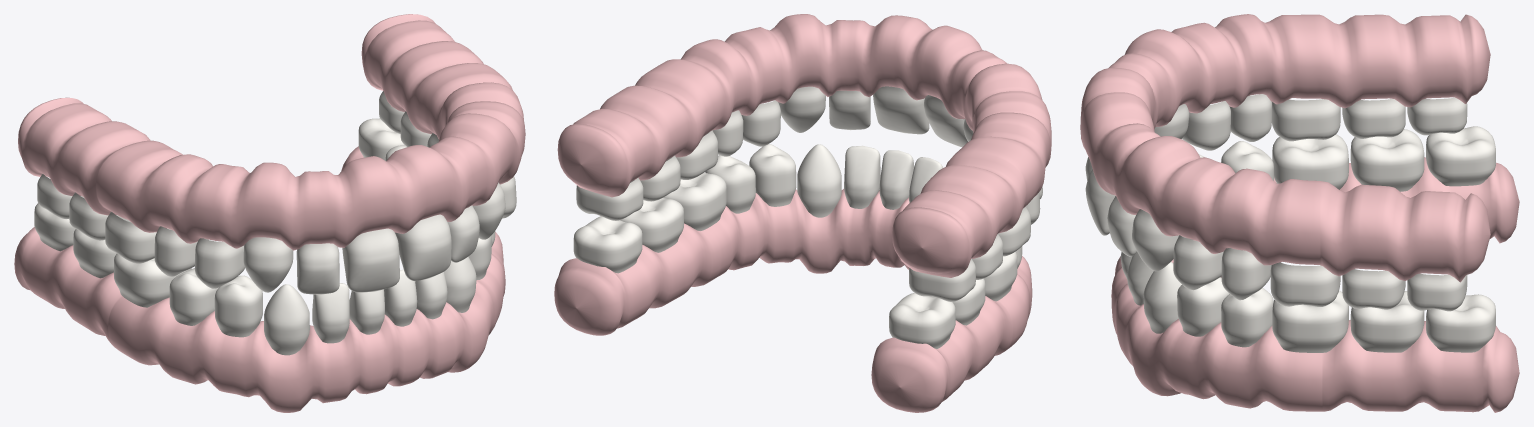
3 views of the same model, side by side, from view 1: azimuth 30°, elevation 25°; view 2: azimuth 150°, elevation 25°; view 3: azimuth 270°, elevation 25° (orthographic). The views are drawn at different scales.
Visible parts, largest first — view 1: gums_upper, gums_lower, object 1, object 9, object 27, object 28, object 30, object 3, object 2, object 29, object 4, object 26 (+16 smaller); view 2: gums_upper, gums_lower, object 24, object 32, object 19, object 22, object 20, object 23, object 9, object 18, object 21, object 16 (+14 smaller); view 3: gums_upper, gums_lower, object 31, object 32, object 22, object 30, object 24, object 23, object 14, object 6, object 21, object 15 (+15 smaller).
Part boxes in pixels (x1=…): gums_upper: x1=18, y1=14, x2=525, y2=250; gums_lower: x1=14, y1=146, x2=505, y2=412; object 1: x1=342, y1=228, x2=399, y2=292; object 9: x1=395, y1=214, x2=451, y2=281; object 27: x1=264, y1=284, x2=309, y2=355; object 28: x1=214, y1=275, x2=262, y2=337; object 30: x1=114, y1=253, x2=191, y2=307; object 3: x1=243, y1=237, x2=293, y2=292; object 2: x1=296, y1=243, x2=339, y2=294; object 29: x1=169, y1=268, x2=218, y2=325; object 4: x1=194, y1=238, x2=244, y2=288; object 26: x1=312, y1=283, x2=349, y2=343; gums_upper: x1=557, y1=14, x2=1051, y2=277; gums_lower: x1=554, y1=189, x2=1032, y2=412; object 24: x1=573, y1=216, x2=642, y2=273; object 32: x1=889, y1=293, x2=955, y2=348; object 19: x1=797, y1=144, x2=841, y2=217; object 22: x1=663, y1=172, x2=726, y2=230; object 20: x1=749, y1=144, x2=796, y2=206; object 23: x1=620, y1=197, x2=683, y2=252; object 9: x1=873, y1=86, x2=929, y2=134; object 18: x1=844, y1=145, x2=880, y2=208; object 21: x1=705, y1=155, x2=755, y2=213; object 16: x1=576, y1=177, x2=643, y2=220; gums_upper: x1=1080, y1=14, x2=1490, y2=282; gums_lower: x1=1111, y1=157, x2=1519, y2=412; object 31: x1=1350, y1=129, x2=1424, y2=191; object 32: x1=1426, y1=126, x2=1495, y2=186; object 22: x1=1272, y1=290, x2=1348, y2=352; object 30: x1=1272, y1=134, x2=1348, y2=189; object 24: x1=1426, y1=294, x2=1495, y2=352; object 23: x1=1350, y1=291, x2=1424, y2=352; object 14: x1=1270, y1=262, x2=1340, y2=306; object 6: x1=1272, y1=99, x2=1340, y2=141; object 21: x1=1221, y1=288, x2=1273, y2=347; object 15: x1=1342, y1=269, x2=1405, y2=309.
Size of the model in its own units: 74.31 by 42.4 by 63.61.
